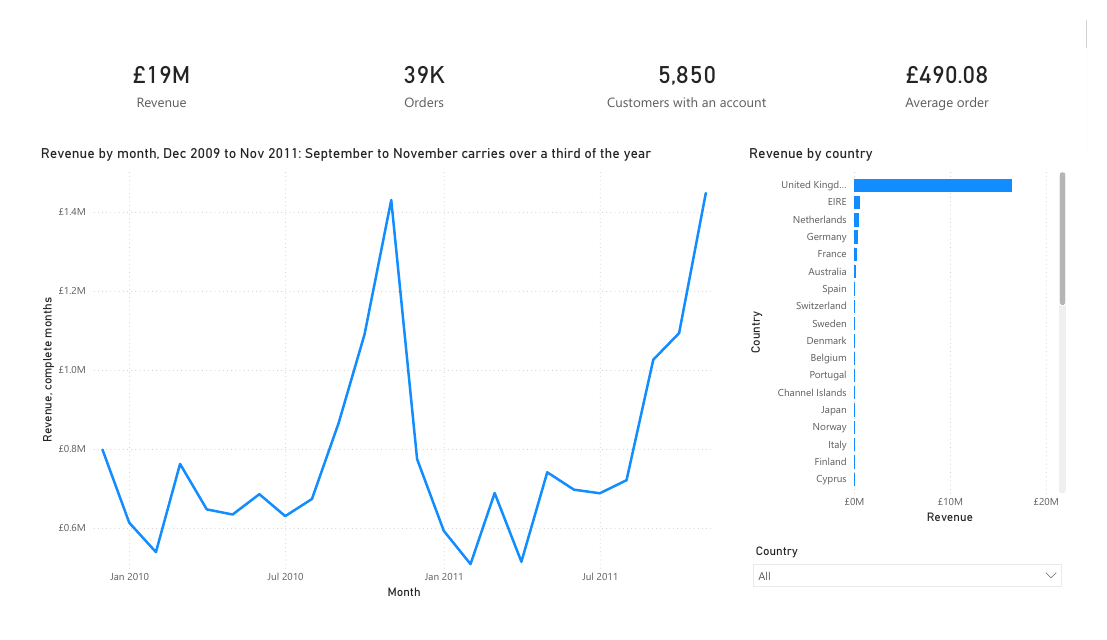

What the dashboard file says about the page in this screenshot:
{"tool":"powerbi","page":{"name":"Overview","canvas":[1280,720],"ordinal":0},"visuals":[{"type":"card","fields":{"Values":["Sales.Revenue"]},"box":[20,20,300,110],"z":1},{"type":"card","fields":{"Values":["Sales.Orders"]},"box":[335,20,300,110],"z":2},{"type":"card","fields":{"Values":["Sales.Customers with an account"]},"box":[650,20,300,110],"z":3},{"type":"card","fields":{"Values":["Sales.Average order"]},"box":[965,20,295,110],"z":4},{"type":"lineChart","title":"Revenue by month, Dec 2009 to Nov 2011: September to November carries over a third of the year","fields":{"Category":["Sales.Month"],"Y":["Sales.Revenue, complete months"]},"box":[20,150,830,550],"z":5},{"type":"clusteredBarChart","title":"Revenue by country","fields":{"Category":["Sales.Country"],"Y":["Sales.Revenue"]},"box":[870,150,390,460],"z":6},{"type":"slicer","fields":{"Values":["Sales.Country"]},"box":[870,625,390,75],"z":7}]}

Visuals, with their boxes in screenshot pixels (x1, y1, x2, y2), scaled from the page's 1280x720 canvas onto the 1107x640 screenshot:
card - Sales.Revenue: <bbox>17, 18, 277, 116</bbox>
card - Sales.Orders: <bbox>290, 18, 549, 116</bbox>
card - Sales.Customers with an account: <bbox>562, 18, 822, 116</bbox>
card - Sales.Average order: <bbox>835, 18, 1090, 116</bbox>
"Revenue by month, Dec 2009 to Nov 2011: September to November carries over a third of the year" lineChart: <bbox>17, 133, 735, 622</bbox>
"Revenue by country" clusteredBarChart: <bbox>752, 133, 1090, 542</bbox>
slicer - Sales.Country: <bbox>752, 556, 1090, 622</bbox>
